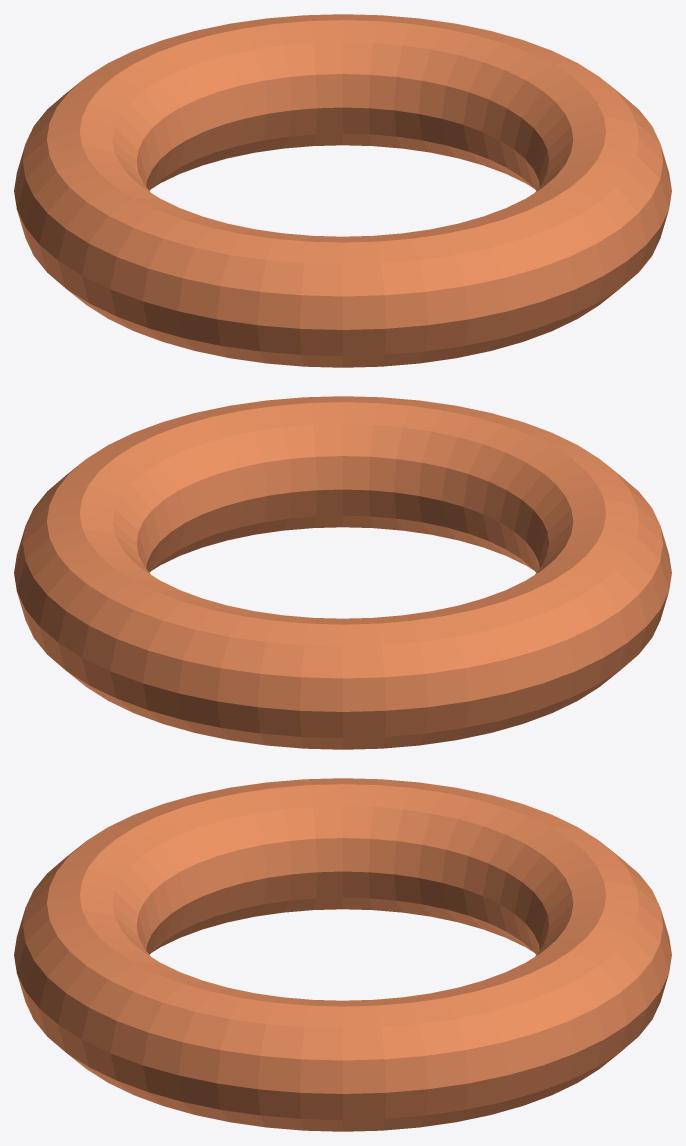
Rendered from davidConeC2.gltf.
The picture shows the model from 3 angles, top to bottom: view 1: azimuth 30°, elevation 25°; view 2: azimuth 150°, elevation 25°; view 3: azimuth 270°, elevation 25°; orthographic projection.
Parts seen in each view (by area): view 1: davidConeC2; view 2: davidConeC2; view 3: davidConeC2.
Boxes of the visible parts, box(x1,y1,x2,y2) form: davidConeC2: box(14, 14, 671, 367); davidConeC2: box(14, 396, 671, 749); davidConeC2: box(14, 778, 671, 1131).
Bounding box in the file's own units: 0.4236 × 0.0847 × 0.4236.
